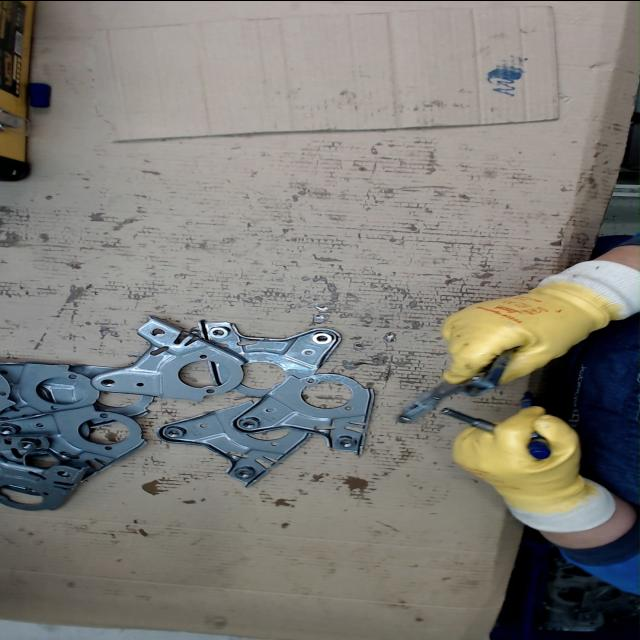hands: (439, 280, 605, 384), (450, 404, 586, 511)
